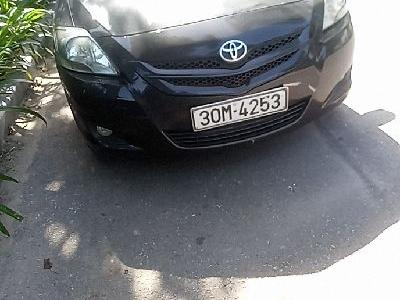number: (193, 89, 288, 135)
